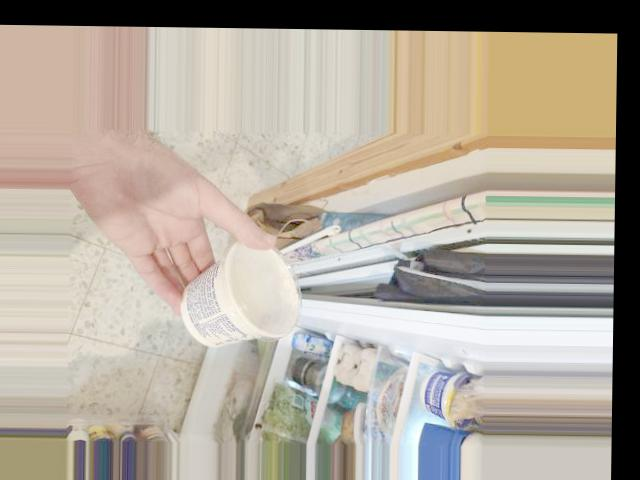cotage: (175, 246, 300, 339)
